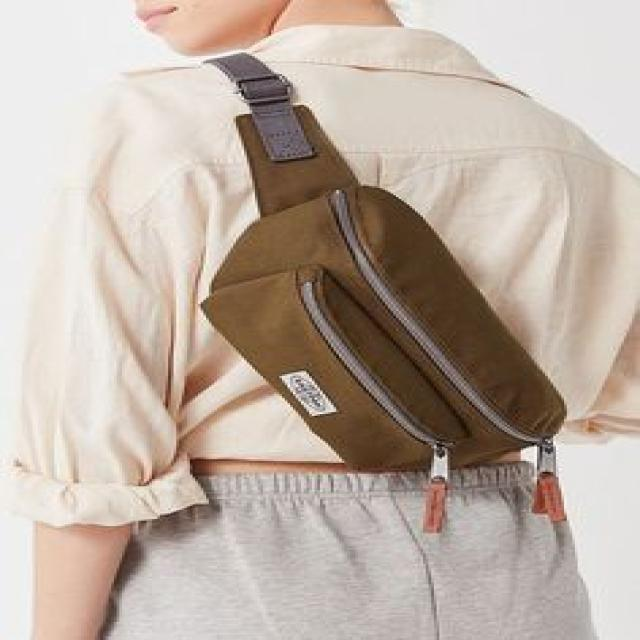Handbag: (184, 155, 580, 486)
